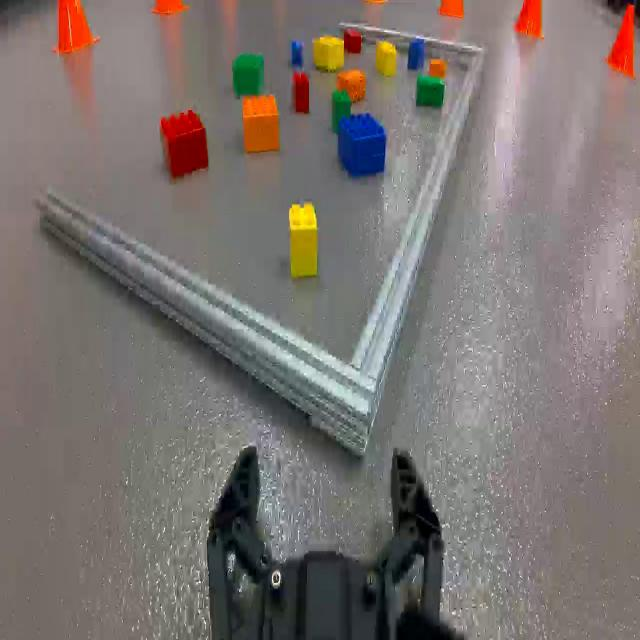block: (288, 201, 320, 280), (314, 35, 344, 72), (376, 42, 396, 77)
blue: (340, 110, 385, 178), (408, 39, 425, 70), (292, 40, 304, 66)
cone: (605, 0, 640, 79), (52, 0, 100, 57), (514, 0, 546, 43), (151, 0, 188, 20), (438, 0, 466, 20), (365, 0, 387, 6)
green: (232, 48, 264, 94), (415, 75, 445, 108), (332, 91, 350, 132)
metal barrier: (36, 20, 486, 458)
orange: (241, 91, 279, 155), (338, 70, 366, 102), (430, 60, 445, 76)
red goal: (161, 106, 211, 180), (292, 71, 309, 114), (344, 29, 362, 54)
